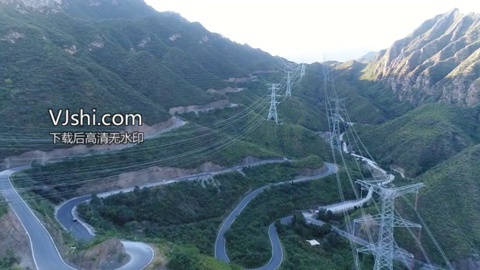tower_body: (353, 172, 430, 270), (327, 96, 346, 150), (265, 82, 281, 123), (282, 69, 295, 99)
tower_head: (356, 176, 427, 202)
